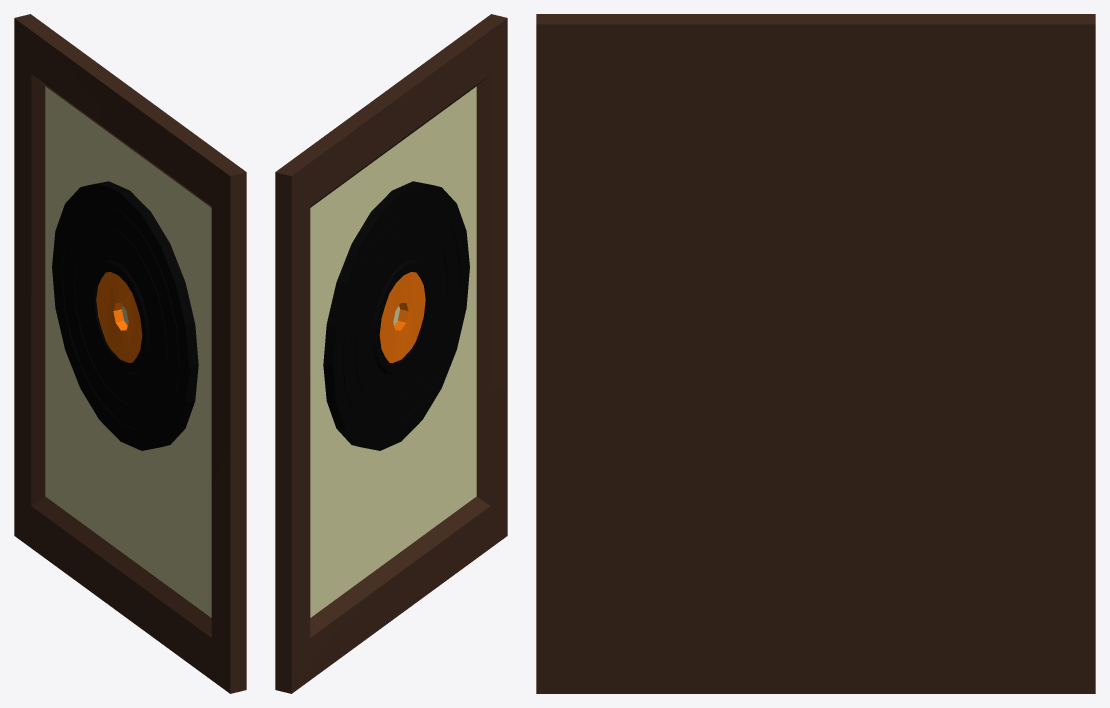
File: dis3.gltf
3 views of the same model, side by side, from view 1: azimuth 30°, elevation 25°; view 2: azimuth 150°, elevation 25°; view 3: azimuth 270°, elevation 25° (orthographic). The views are drawn at different scales.
Parts seen in each view (by area): view 1: pCube2; view 2: pCube2; view 3: pCube2.
Boxes of the visible parts, box(x1,y1,x2,y2) form: pCube2: box(14, 14, 246, 693); pCube2: box(275, 14, 507, 693); pCube2: box(536, 14, 1095, 693).
Bounding box in the file's own units: 0.3955 × 9.56 × 7.24.
